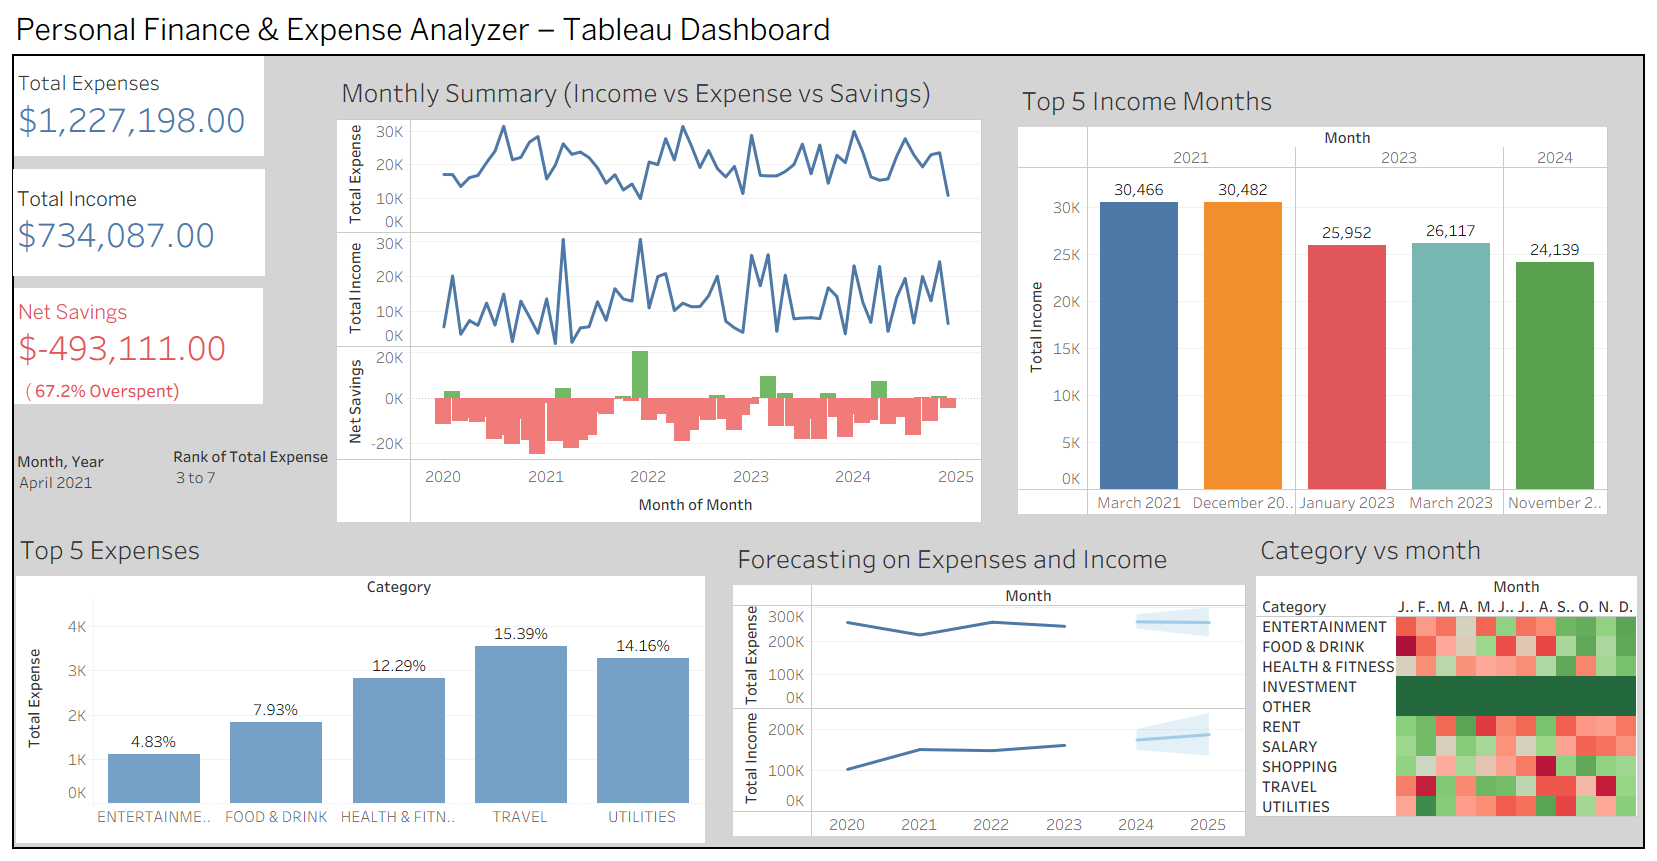

This screenshot's page, from the dashboard's own definition file:
{"tool":"tableau","page":{"name":"Dashboard 1","canvas":[1000,1000],"units":"permille","ordinal":0},"visuals":[{"type":"title","box":[4.8,9.3,990.3,48.8]},{"type":"worksheet","title":"Sheet 8","mark":"Text","box":[4.8,58.1,990.3,932.6]},{"type":"worksheet","title":"Monthly Summary (Income vs Expense vs Savings)","mark":"Automatic","rows":["TOTAL_EXPENSE","TOTAL_INCOME","NET_SAVINGS"],"cols":["MONTH"],"box":[203.4,80.1,389.3,527.3]},{"type":"worksheet","title":"Top 5 Income Months","mark":"Bar","rows":["TOTAL_INCOME"],"cols":["MONTH","MONTH"],"box":[614.4,89.4,356.1,508.7]},{"type":"worksheet","title":"Sheet 9","mark":"Automatic","box":[7.9,196.3,158.1,134.7]},{"type":"worksheet","title":"Sheet 10","mark":"Automatic","box":[8.4,334.5,150.9,116.1]},{"type":"worksheet","title":"Sheet 11","mark":"Automatic","box":[8.4,440.2,261.3,48.8]},{"type":"filter","title":"Top 5 Expenses","param":"[federated.0ohw6x91gmjup71dm9w9j0ws5vgl].[rank:sum:TOTAL_EXPENSE:qk]","box":[104.4,516.8,94.8,75.5]},{"type":"filter","title":"Top 5 Expenses","param":"[federated.0ohw6x91gmjup71dm9w9j0ws5vgl].[my:MONTH:ok]","box":[10.3,522.6,90.5,61.6]},{"type":"worksheet","title":"Top 5 Expenses","mark":"Automatic","rows":["TOTAL_EXPENSE"],"cols":["CATEGORY"],"box":[9.7,610.9,415.2,368.2]},{"type":"worksheet","title":"Category vs month","mark":"Automatic","rows":["CATEGORY"],"cols":["MONTH"],"box":[763.4,616.7,226.9,360.1]},{"type":"worksheet","title":"Forecasting on Expenses and Income","mark":"Automatic","rows":["TOTAL_EXPENSE","TOTAL_INCOME"],"cols":["MONTH"],"box":[442.4,621.4,309.6,351.9]}]}

Visuals, with their boxes on the dashboard's canvas, which has no fixed pixel size, in thousandths of its width and height (x1, y1, x2, y2). These are canvas units, not pixel positions in the 1657x861 screenshot, which may show the page scaled, cropped or inside an application window:
title: l=5, t=9, r=995, b=58
"Sheet 8" worksheet (Text marks): l=5, t=58, r=995, b=991
"Monthly Summary (Income vs Expense vs Savings)" worksheet: l=203, t=80, r=593, b=607
"Top 5 Income Months" worksheet (Bar marks): l=614, t=89, r=970, b=598
"Sheet 9" worksheet: l=8, t=196, r=166, b=331
"Sheet 10" worksheet: l=8, t=334, r=159, b=451
"Sheet 11" worksheet: l=8, t=440, r=270, b=489
"Top 5 Expenses" filter: l=104, t=517, r=199, b=592
"Top 5 Expenses" filter: l=10, t=523, r=101, b=584
"Top 5 Expenses" worksheet: l=10, t=611, r=425, b=979
"Category vs month" worksheet: l=763, t=617, r=990, b=977
"Forecasting on Expenses and Income" worksheet: l=442, t=621, r=752, b=973
